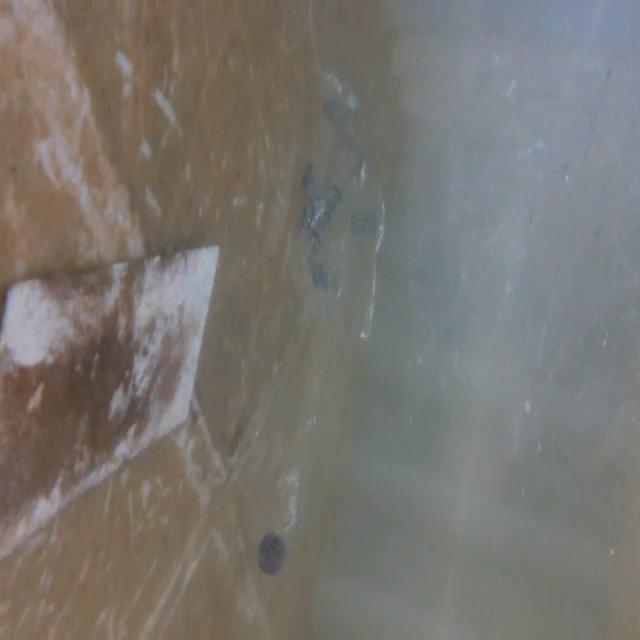metal: (0, 239, 223, 570)
plastic bags: (409, 0, 615, 467), (282, 64, 392, 352)
plastic bottle: (235, 348, 326, 582)
